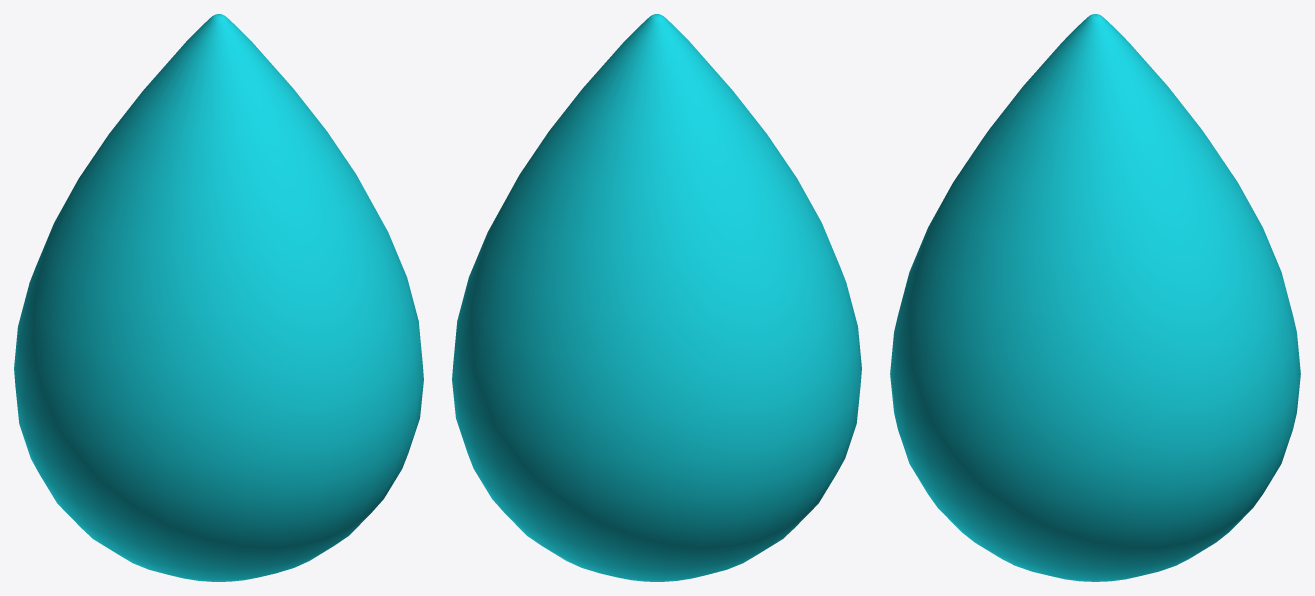
Rendered from Droplet.gltf.
The picture shows the model from 3 angles, left to right: view 1: azimuth 30°, elevation 25°; view 2: azimuth 150°, elevation 25°; view 3: azimuth 270°, elevation 25°; orthographic projection.
Parts seen in each view (by area): view 1: Sphere.417; view 2: Sphere.417; view 3: Sphere.417.
Boxes of the visible parts, <box> form: Sphere.417: <box>14,14,423,581</box>; Sphere.417: <box>452,14,861,581</box>; Sphere.417: <box>890,14,1300,581</box>.
Bounding box in the file's own units: 1.12 × 1.65 × 1.12.
